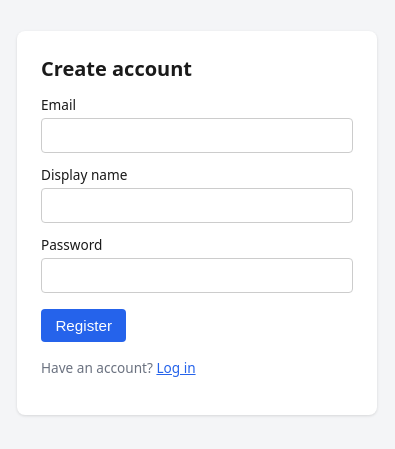
Test: RegisterPage › surfaces the API error message on failure
Type "a@b.c" into the field labelled "Email".
click(197, 136); type("a@b.c")  # box [41,118,353,153]
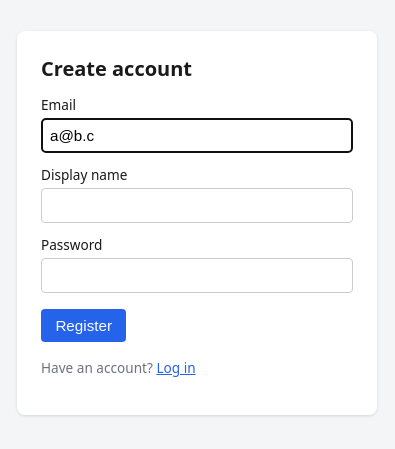
Type "Ana" into the field labelled "Display name".
click(197, 206); type("Ana")  # box [41,188,353,223]
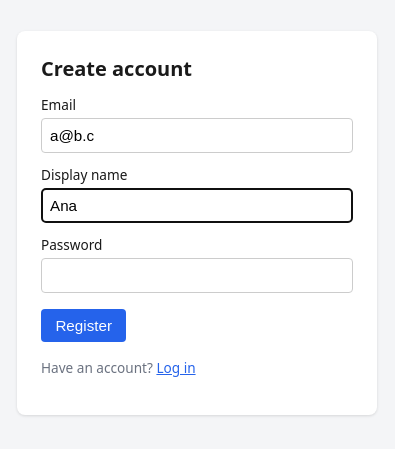
Type "x" into the password field labelled "Password".
click(197, 276); type("x")  # box [41,258,353,293]
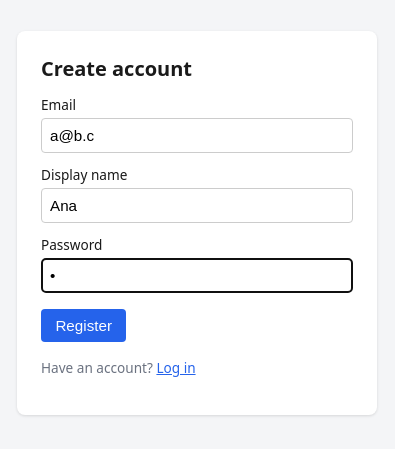
Click the button "Register".
click(84, 326)  # box [41,309,126,342]
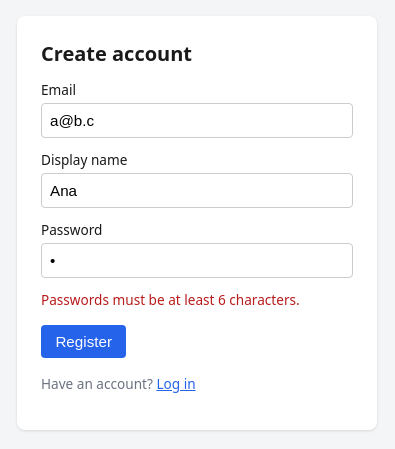
Result: the text "Passwords must be at least 6 characters." is shown at [41,290,300,309]
